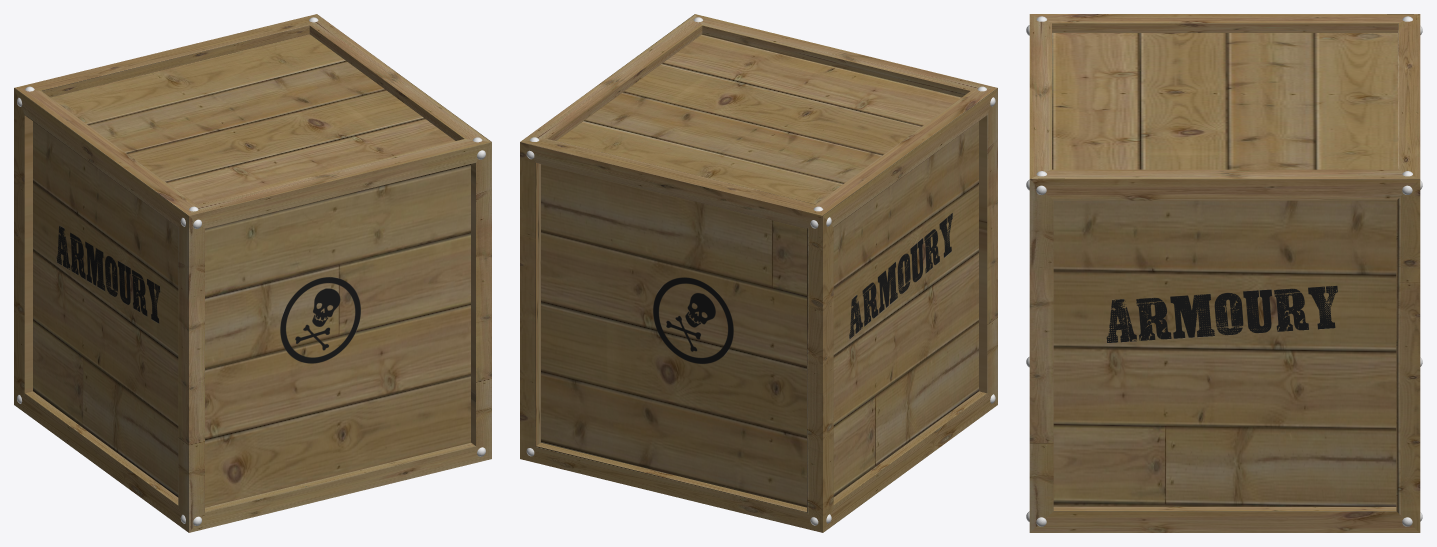
The model's file is crate.glb.
The picture shows the model from 3 angles, left to right: view 1: azimuth 30°, elevation 25°; view 2: azimuth 150°, elevation 25°; view 3: azimuth 270°, elevation 25°; orthographic projection. The views are drawn at different scales.
Parts seen in each view (by area): view 1: Untitled-1; view 2: Untitled-1; view 3: Untitled-1.
Boxes of the visible parts, x1=… form: Untitled-1: x1=14, y1=14, x2=491, y2=532; Untitled-1: x1=520, y1=14, x2=997, y2=532; Untitled-1: x1=1026, y1=14, x2=1422, y2=532.
Bounding box in the file's own units: 2.03 × 2.01 × 2.03.
10 materials, 5 textured.
